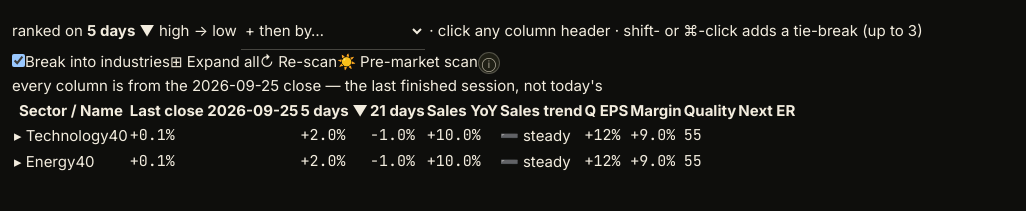
Test: additive clicks send then_by › NEGATIVE: a plain click goes back to ONE key — no then_by, single ▼
Expected: the button "▸ Technology" is shown, x1=14 y1=124 x2=109 y2=148
Click the button "Q EPS". click: (606, 111)
box: x1=584 y1=99 x2=628 y2=122
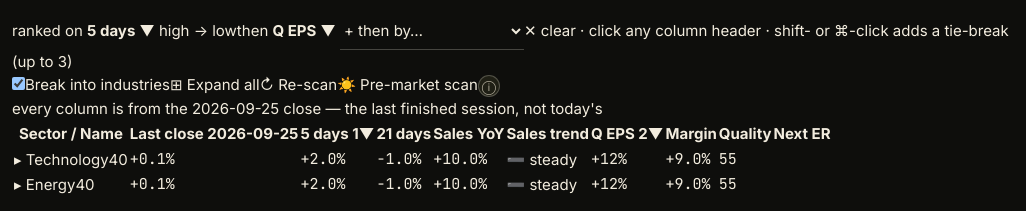
Expected: the button "Q EPS 2▼" is shown, x1=591 y1=122 x2=664 y2=146
Click the button "Margin". click: (691, 134)
box: x1=666 y1=122 x2=717 y2=146
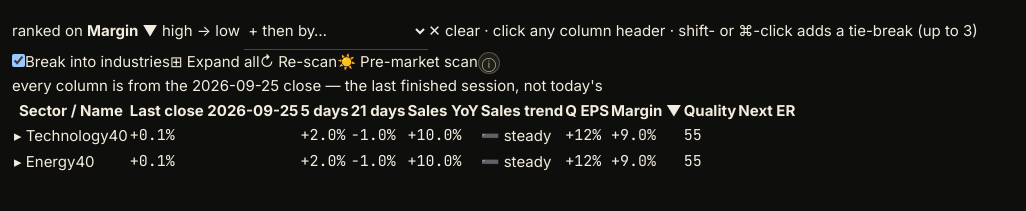
Expected: the button "Margin ▼" is shown, x1=611 y1=99 x2=682 y2=122
Expected: the button "Q EPS" is shown, x1=565 y1=99 x2=609 y2=122
